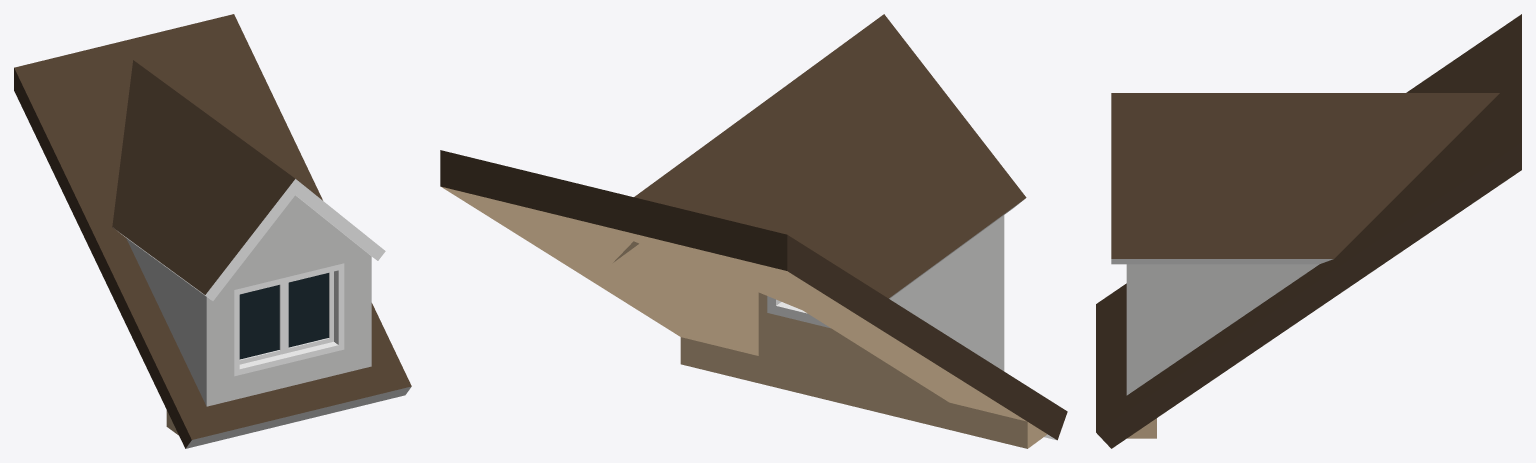
File: house-roof-window-two.glb
3 views of the same model, side by side, from view 1: azimuth 30°, elevation 25°; view 2: azimuth 150°, elevation 25°; view 3: azimuth 270°, elevation 25° (orthographic). The views are drawn at different scales.
Parts seen in each view (by area): view 1: house-roof-window-two; view 2: house-roof-window-two; view 3: house-roof-window-two.
Boxes of the visible parts, left/top/right/bottom form: house-roof-window-two: left=14, top=14, right=411, bottom=448; house-roof-window-two: left=440, top=14, right=1067, bottom=448; house-roof-window-two: left=1096, top=14, right=1521, bottom=448.
Size of the model in its own units: 4 by 4.45 by 5.6.
1 material, 1 textured.
